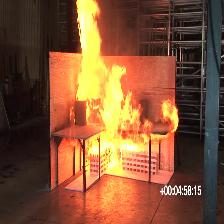fire: (88, 65, 179, 171), (76, 0, 105, 99)
